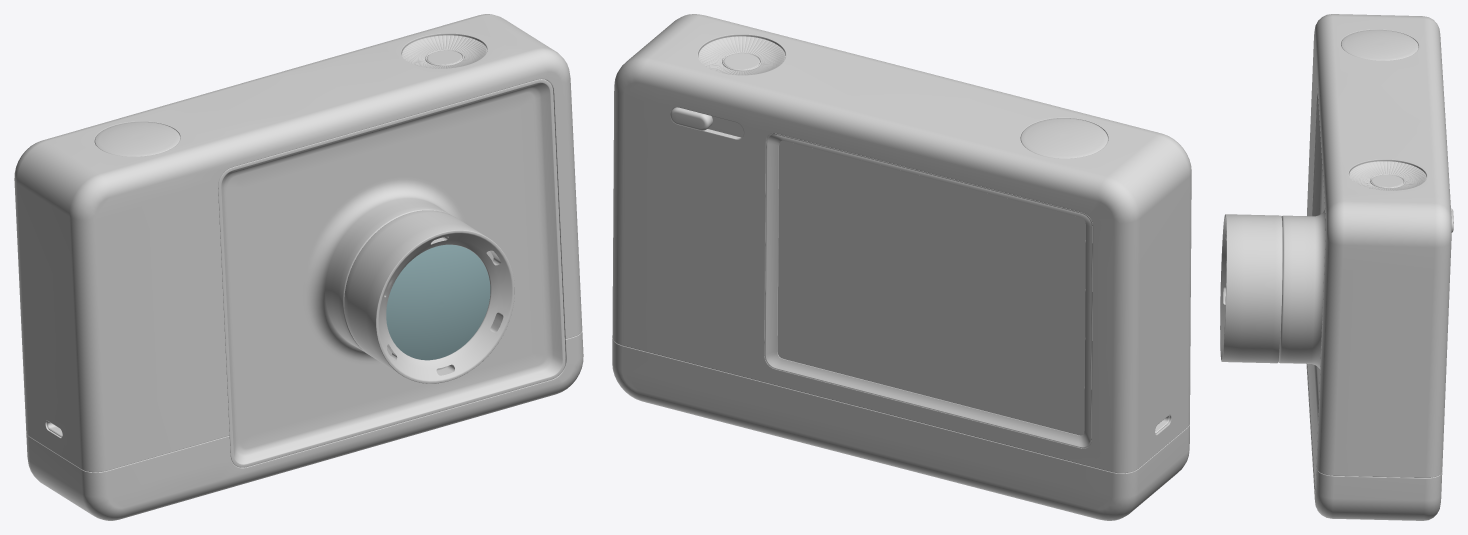
The model's file is p_55_xrayCam_sf.fbx.
3 views of the same model, side by side, from view 1: azimuth 30°, elevation 25°; view 2: azimuth 150°, elevation 25°; view 3: azimuth 270°, elevation 25° (orthographic). The views are drawn at different scales.
Parts seen in each view (by area): view 1: camera.001_low, camera.004_low, camera.013_low, camera.005_low, camera.006_low, camera.003_low, camera.002_low; view 2: camera.001_low, camera.019_low, camera.013_low, camera.017_low, camera.003_low, camera.002_low, camera.008_low; view 3: camera.001_low, camera.005_low, camera.004_low, camera.013_low, camera.003_low, camera.002_low, camera.014_low.
Part boxes in pixels (x1,y1,x2,y2): camera.001_low: (14, 14, 582, 472); camera.004_low: (218, 79, 565, 467); camera.013_low: (26, 331, 583, 520); camera.005_low: (344, 210, 514, 383); camera.006_low: (386, 244, 490, 360); camera.003_low: (94, 122, 180, 156); camera.002_low: (401, 35, 487, 68); camera.001_low: (612, 14, 1191, 473); camera.019_low: (777, 140, 1085, 435); camera.013_low: (612, 339, 1189, 520); camera.017_low: (764, 133, 1092, 448); camera.003_low: (1020, 118, 1108, 158); camera.002_low: (698, 36, 785, 75); camera.008_low: (670, 107, 712, 130); camera.001_low: (1307, 14, 1451, 477); camera.005_low: (1220, 214, 1282, 363); camera.004_low: (1278, 88, 1325, 492); camera.013_low: (1306, 363, 1442, 520); camera.003_low: (1341, 30, 1418, 60); camera.002_low: (1349, 161, 1426, 190); camera.014_low: (1371, 174, 1403, 187).
Bounding box in the file's own units: 204 × 135 × 88.03.
